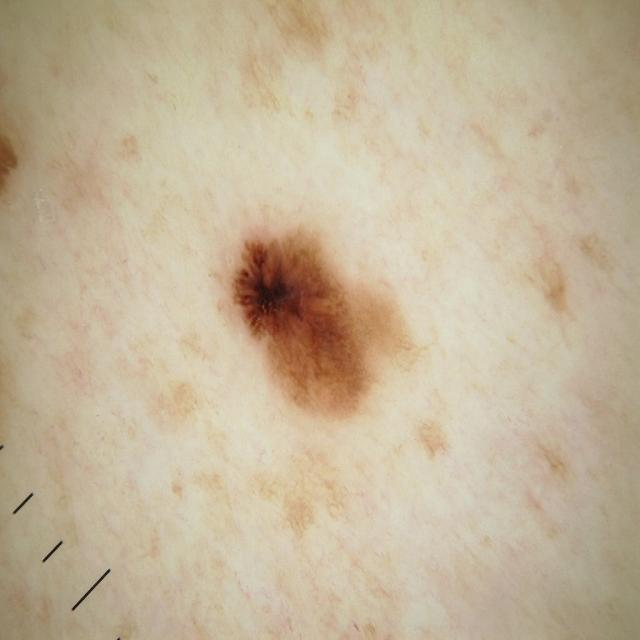Skin-Cancer Melanoma: (62, 65, 577, 598)
